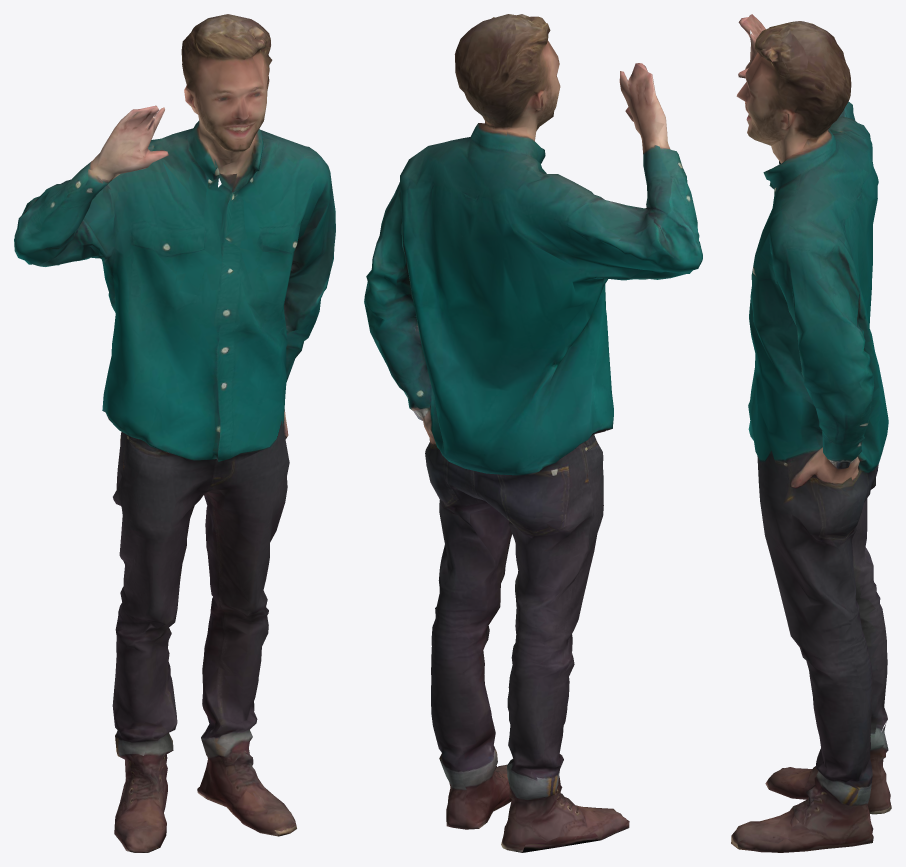
The model's file is sc-scan.gltf.
3 renders of one model, left to right at view 1: azimuth 30°, elevation 25°; view 2: azimuth 150°, elevation 25°; view 3: azimuth 270°, elevation 25°, orthographic.
Visible parts, largest first — view 1: full:Mesh; view 2: full:Mesh; view 3: full:Mesh.
Boxes of the visible parts, x1,y1,x2,y2 form: full:Mesh: (14,14,335,852); full:Mesh: (364,14,702,852); full:Mesh: (731,14,891,852).
Size of the model in its own units: 1.54 by 3.66 by 0.664.
1 material, 1 textured.
